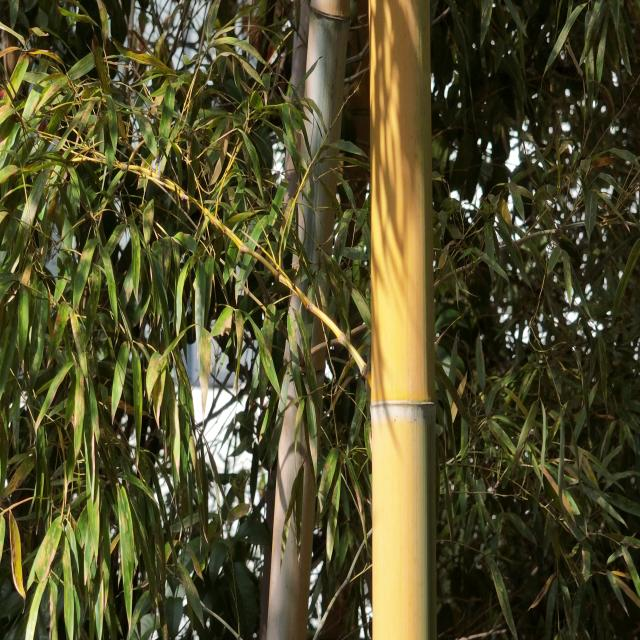Bamboo-shoots: (368, 0, 437, 640)
